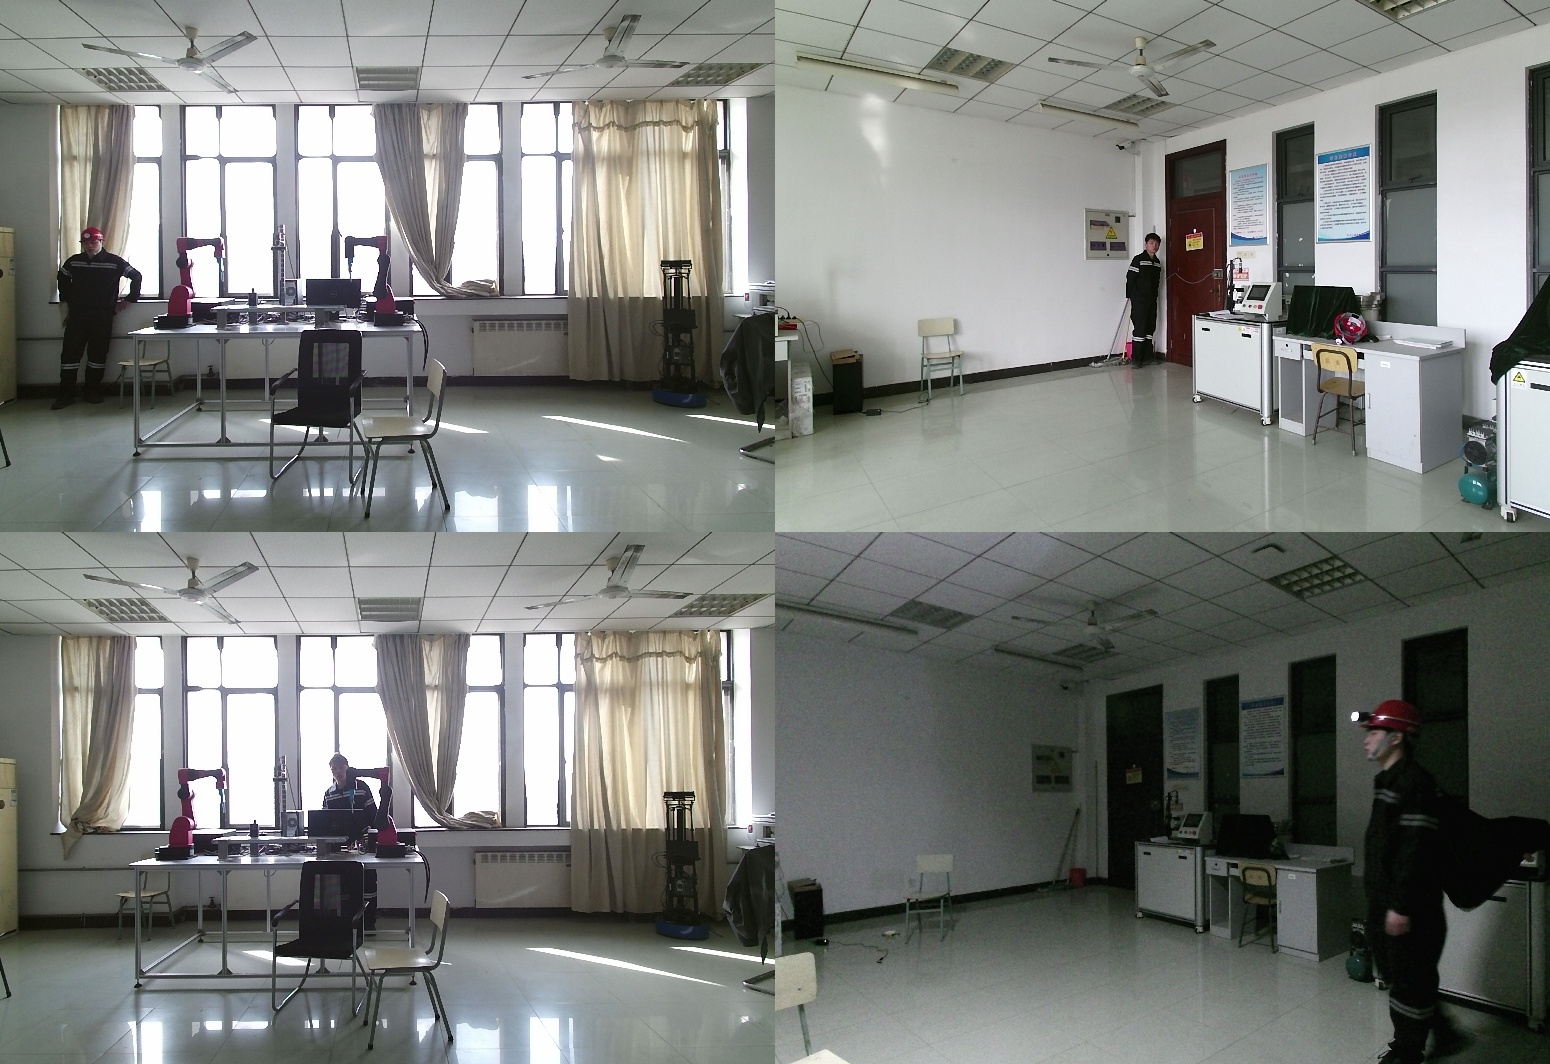person: (1359, 697, 1470, 1061), (53, 226, 142, 404), (315, 755, 381, 935), (1125, 233, 1163, 372)
